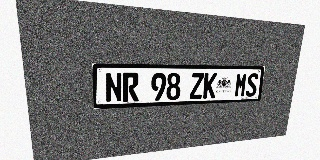8: (166, 73, 181, 100)
9: (151, 73, 167, 101)
K: (203, 73, 217, 99)
M: (234, 73, 248, 97)
N: (105, 72, 122, 103)
R: (123, 72, 139, 102)
S: (245, 73, 259, 97)
Z: (189, 73, 204, 99)
